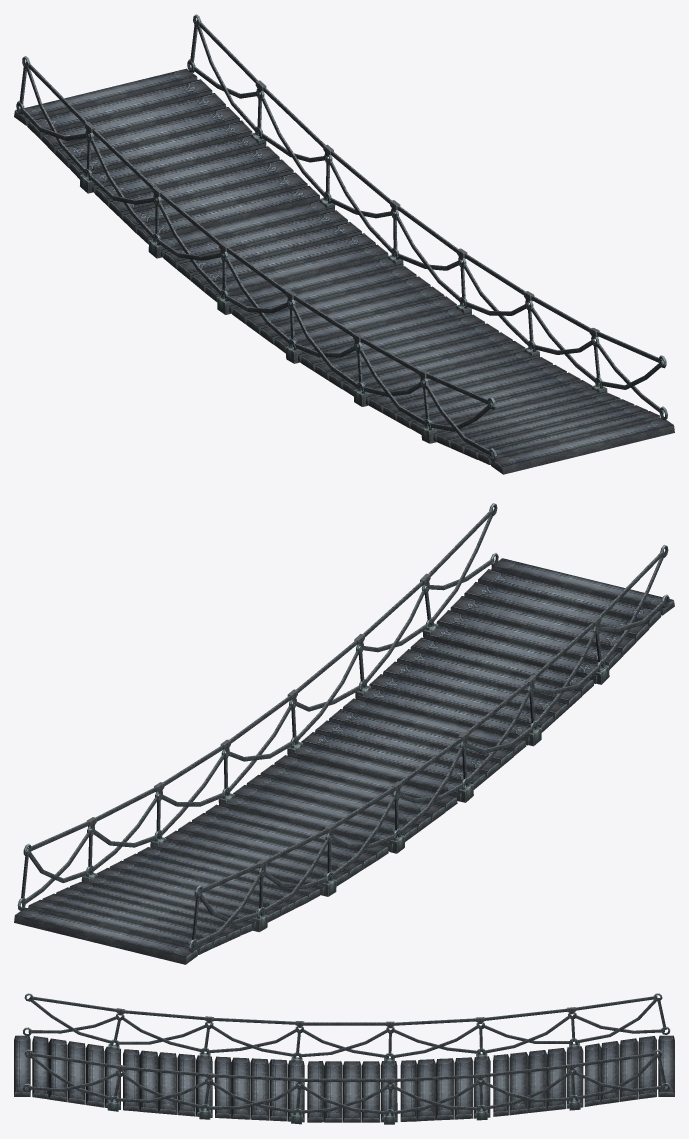
File: steel_bridge_body_s.fbx
3 renders of one model, top to bottom at view 1: azimuth 30°, elevation 25°; view 2: azimuth 150°, elevation 25°; view 3: azimuth 270°, elevation 25°, orthographic. The views are drawn at different scales.
Parts seen in each view (by area): view 1: steel_bridge_s; view 2: steel_bridge_s; view 3: steel_bridge_s.
Boxes of the visible parts, x1=… form: steel_bridge_s: x1=14, y1=14, x2=674, y2=474; steel_bridge_s: x1=14, y1=503, x2=674, y2=964; steel_bridge_s: x1=14, y1=993, x2=674, y2=1124.
Size of the model in its own units: 11.42 by 6.7 by 54.27.
